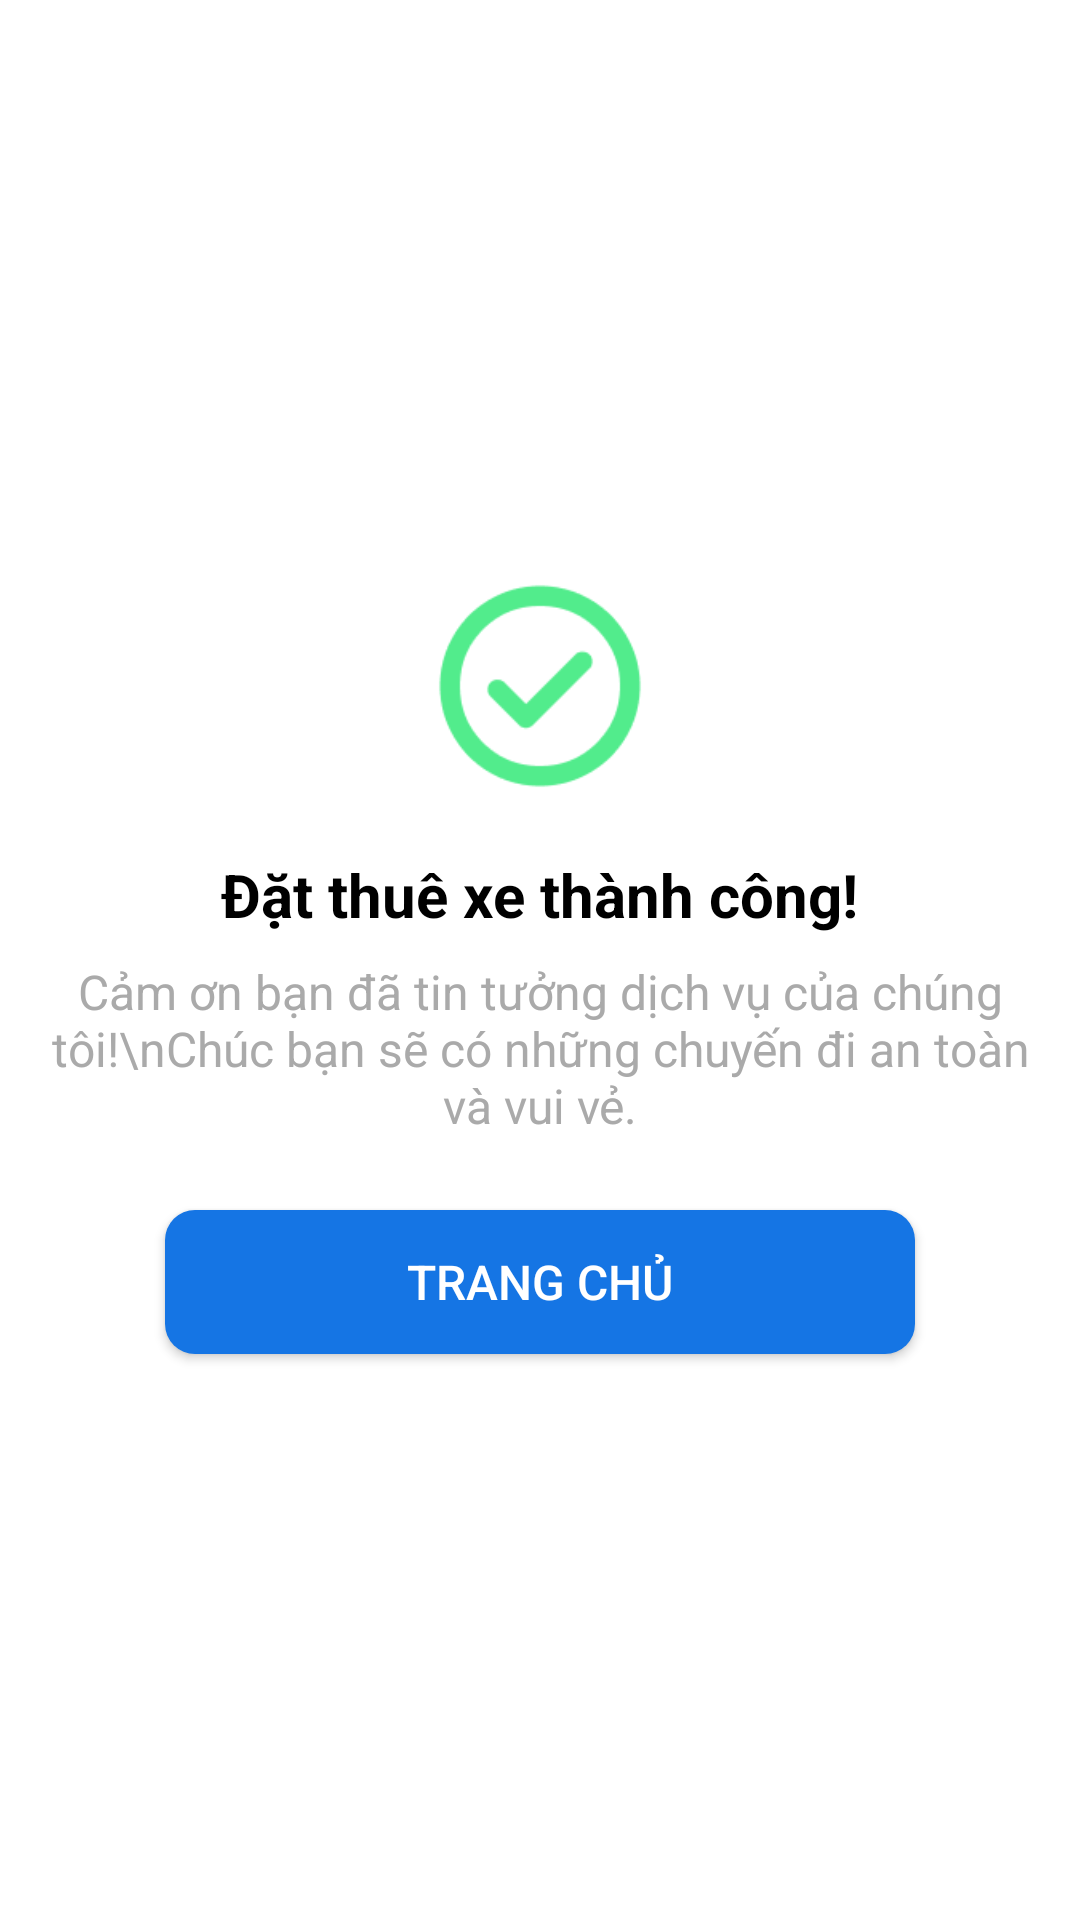

Named icons in this screenshot (1080px×1920px) and their bounding boxes, (x1, y1, x2, y2):
success: (439, 585, 641, 787)
